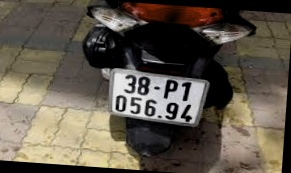Bien-so: (113, 68, 212, 127)
